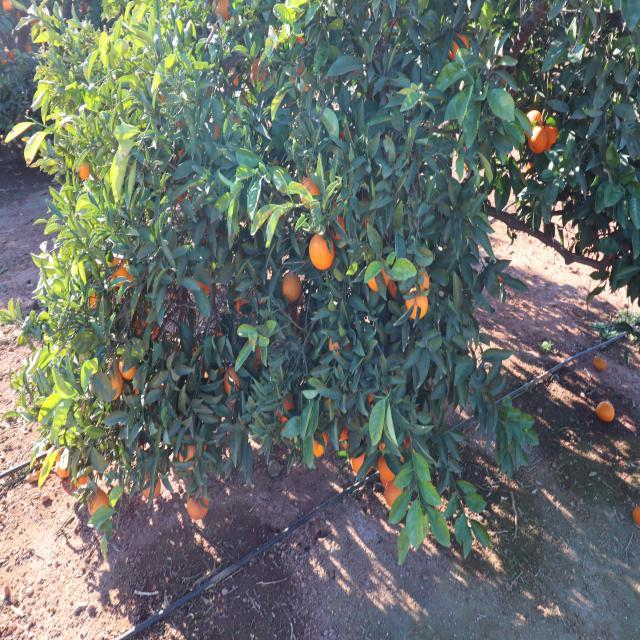Jeruk Sudah Matang: (94, 363, 126, 403), (310, 230, 336, 270), (132, 306, 162, 340), (446, 31, 478, 62), (176, 436, 202, 474), (385, 262, 410, 300), (110, 255, 136, 291), (299, 173, 324, 210), (366, 384, 393, 418), (328, 328, 354, 362), (186, 489, 210, 524), (233, 289, 260, 320), (366, 256, 388, 294), (386, 478, 410, 512), (188, 270, 213, 302), (138, 471, 162, 504), (378, 452, 404, 482), (52, 444, 74, 479), (282, 270, 304, 305), (333, 207, 355, 242), (118, 351, 142, 383), (406, 290, 428, 324), (273, 393, 297, 424), (350, 438, 370, 474), (86, 489, 110, 518), (74, 155, 96, 186), (252, 338, 272, 371), (413, 262, 435, 292), (308, 428, 328, 459), (529, 124, 549, 155), (405, 422, 422, 458), (386, 132, 406, 162), (544, 121, 564, 151), (291, 26, 314, 52), (206, 0, 232, 22), (202, 118, 224, 144), (344, 58, 366, 84), (224, 366, 243, 396), (460, 145, 480, 173), (367, 205, 384, 237), (490, 264, 510, 290), (339, 418, 354, 451), (524, 109, 543, 134), (250, 58, 268, 82), (154, 81, 170, 108), (503, 73, 519, 100), (72, 468, 91, 490), (172, 108, 188, 134), (172, 186, 189, 210), (171, 138, 188, 160), (376, 436, 394, 456), (229, 110, 244, 134), (87, 288, 101, 312), (320, 68, 334, 90), (270, 155, 283, 175), (228, 68, 240, 88), (271, 23, 283, 42), (292, 58, 307, 72), (304, 81, 314, 98)
